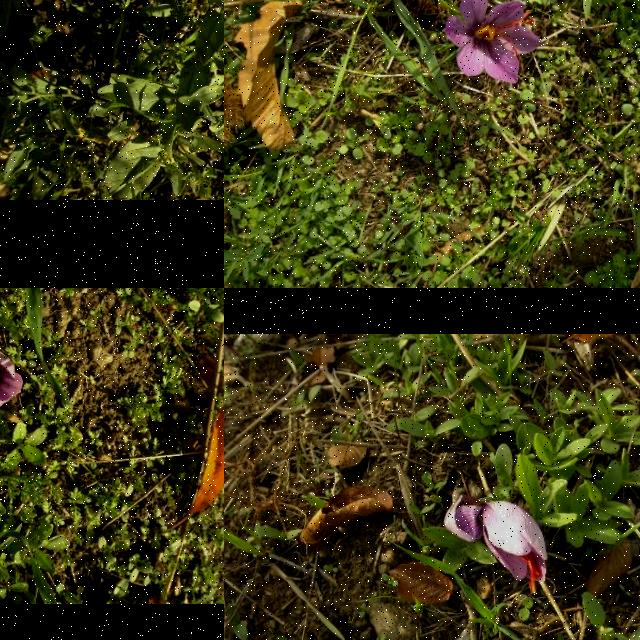flower: (444, 496, 548, 594), (444, 0, 541, 84), (0, 352, 24, 414)
